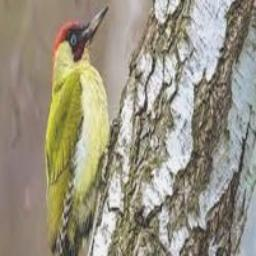Woodpecker: (43, 5, 121, 256)
